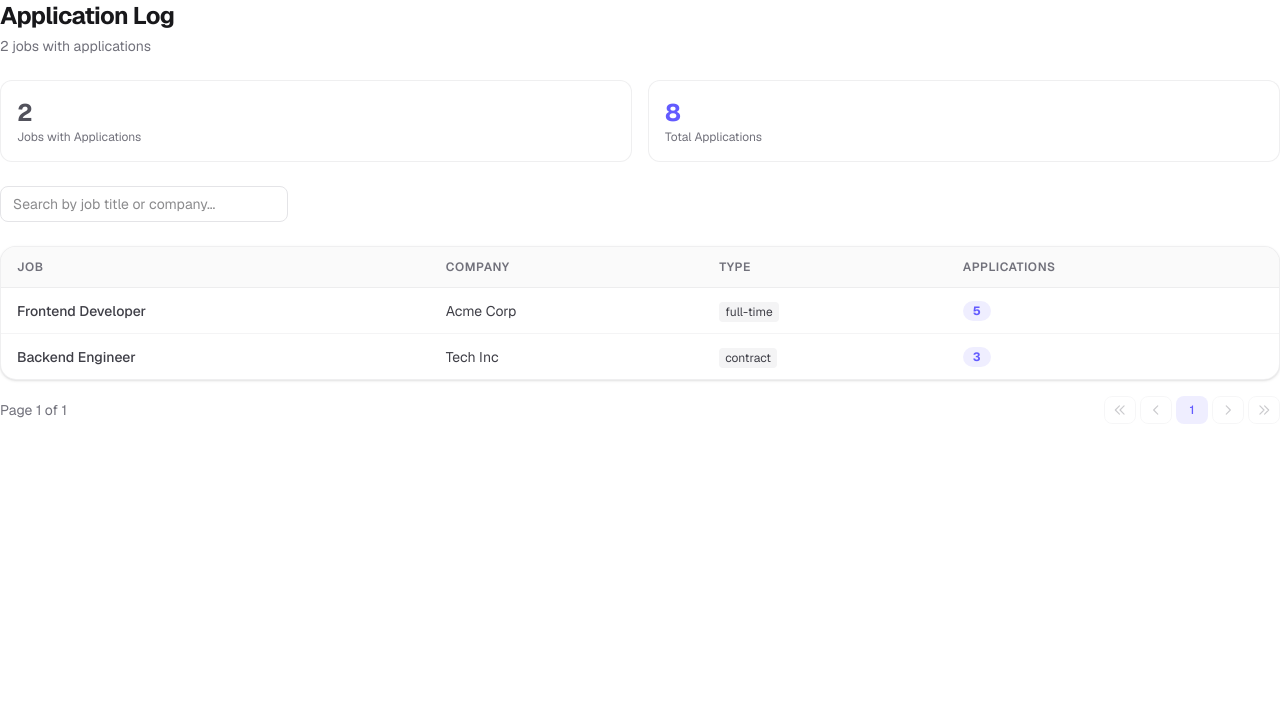
Test: ApplicationsPage › opens application detail popup when row is clicked
Click the text "Frontend Developer" at (82, 310), box x1=1 y1=288 x2=430 y2=334
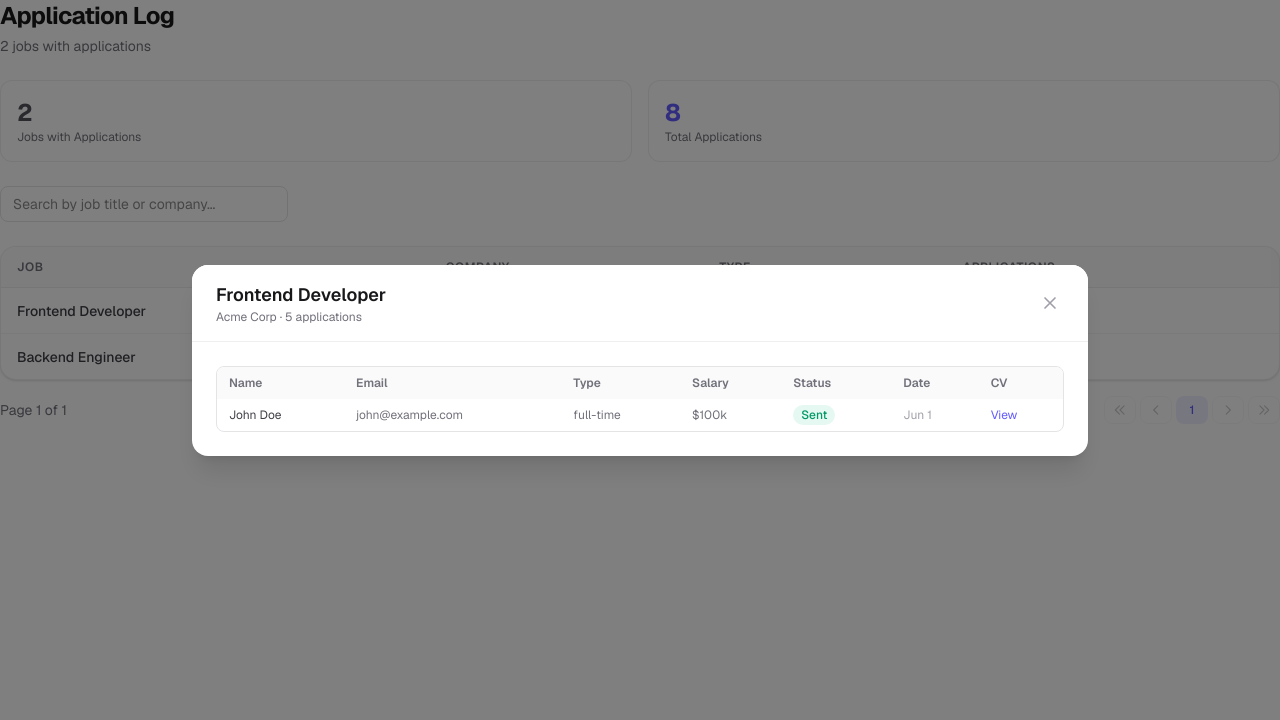
Check: the text "John Doe" is shown, box x1=217 y1=398 x2=344 y2=430
Check: the text "john@example.com" is shown, box x1=344 y1=398 x2=561 y2=430
Check: the text "sent" is shown, box x1=793 y1=404 x2=835 y2=424
